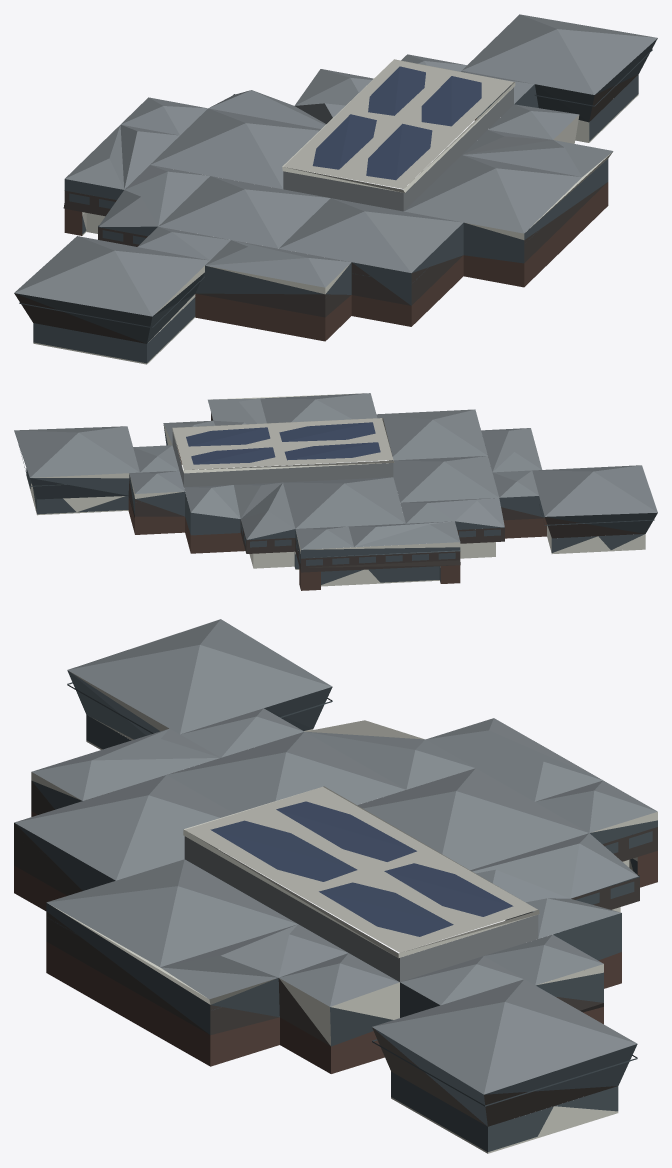
Rendered from tolhuis-paviljoen.lod2.glb.
3 renders of one model, top to bottom at view 1: azimuth 30°, elevation 25°; view 2: azimuth 150°, elevation 25°; view 3: azimuth 270°, elevation 25°, orthographic. The views are drawn at different scales.
Visible parts, largest first — view 1: lod2; view 2: lod2; view 3: lod2.
Boxes of the visible parts, box(x1,y1,x2,y2) form: lod2: box(14, 14, 657, 364); lod2: box(14, 393, 657, 590); lod2: box(14, 619, 657, 1153).
Bounding box in the file's own units: 94.02 × 9.59 × 53.8.
